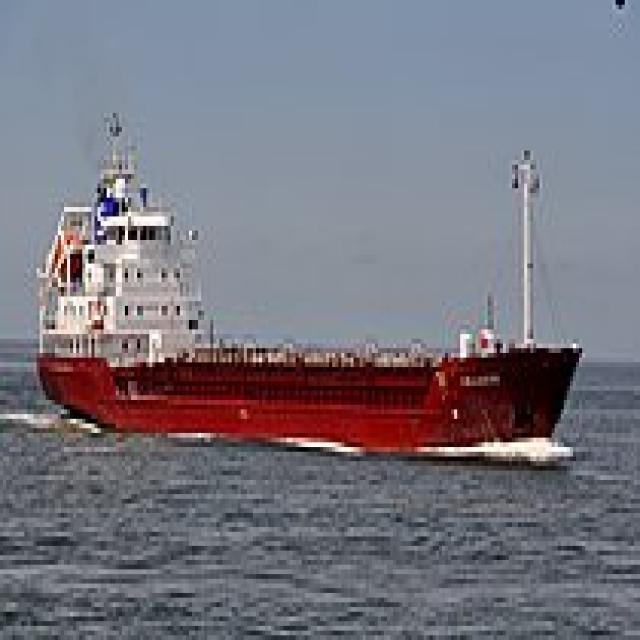Tanker: (31, 99, 585, 447)
